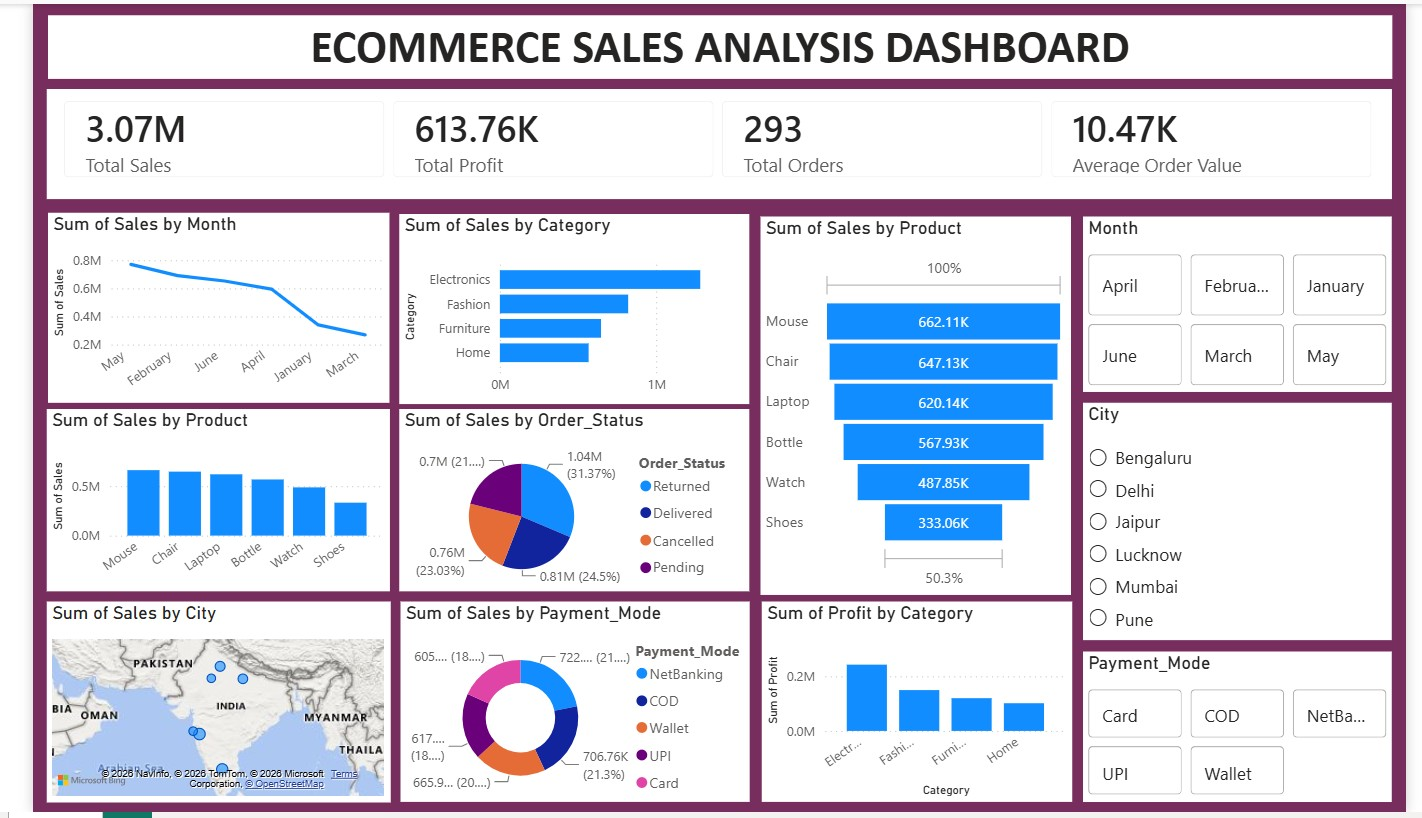

The page's visual inventory and layout, read from the dashboard file:
{"tool":"powerbi","page":{"name":"Page 1","canvas":[1277,752],"ordinal":0},"visuals":[{"type":"cardVisual","fields":{"Data":["Dax Measures.Total Sales","Dax Measures.Total Profit","Dax Measures.Total Orders","Dax Measures.Average Order Value"]},"box":[12.3,79.4,1251.3,102.7],"z":0},{"type":"textbox","box":[13.7,11,1250.1,59],"z":1000},{"type":"lineChart","fields":{"Category":["ecommerce ecom.Month"],"Y":["Sum(ecommerce ecom.Sales)"]},"box":[13.7,194.4,317.6,176.6],"z":2000},{"type":"barChart","fields":{"Category":["ecommerce ecom.Category"],"Y":["Sum(ecommerce ecom.Sales)"]},"box":[340.9,195.8,325.8,176.6],"z":3000},{"type":"columnChart","fields":{"Y":["Sum(ecommerce ecom.Sales)"],"Category":["ecommerce ecom.Product"]},"box":[12.3,376.5,319,169.8],"z":4000},{"type":"map","fields":{"Category":["ecommerce ecom.City"],"Size":["Sum(ecommerce ecom.Sales)"]},"box":[12.3,555.8,319,186.2],"z":5000},{"type":"donutChart","fields":{"Category":["ecommerce ecom.Payment_Mode"],"Y":["Sum(ecommerce ecom.Sales)"]},"box":[342.3,555.8,324.5,186.2],"z":6000},{"type":"pieChart","fields":{"Category":["ecommerce ecom.Order_Status"],"Y":["Sum(ecommerce ecom.Sales)"]},"box":[340.9,376.5,325.8,169.8],"z":7000},{"type":"funnel","fields":{"Category":["ecommerce ecom.Product"],"Y":["Sum(ecommerce ecom.Sales)"]},"box":[676.3,197.1,288.9,351.8],"z":8000},{"type":"columnChart","fields":{"Category":["ecommerce ecom.Category"],"Y":["Sum(ecommerce ecom.Profit)"]},"box":[677.7,555.8,288.9,186.2],"z":9000},{"type":"advancedSlicerVisual","fields":{"Values":["ecommerce ecom.Month"]},"box":[976.1,197.1,287.5,162.9],"z":10000},{"type":"listSlicer","fields":{"Values":["ecommerce ecom.City"]},"box":[976.1,371,287.5,220.4],"z":11000},{"type":"advancedSlicerVisual","fields":{"Values":["ecommerce ecom.Payment_Mode"]},"box":[976.1,602.4,287.5,139.6],"z":12000}]}

Visuals, with their boxes in screenshot pixels (x1, y1, x2, y2), scaled from the page's 1277x752 canvas onto the 1422x818 screenshot:
cardVisual - Dax Measures.Total Sales x Dax Measures.Total Profit: rect(14, 86, 1407, 198)
textbox: rect(15, 12, 1407, 76)
lineChart - ecommerce ecom.Month x Sum(ecommerce ecom.Sales): rect(15, 211, 369, 404)
barChart - ecommerce ecom.Category x Sum(ecommerce ecom.Sales): rect(380, 213, 742, 405)
columnChart - Sum(ecommerce ecom.Sales) x ecommerce ecom.Product: rect(14, 410, 369, 594)
map - ecommerce ecom.City x Sum(ecommerce ecom.Sales): rect(14, 605, 369, 807)
donutChart - ecommerce ecom.Payment_Mode x Sum(ecommerce ecom.Sales): rect(381, 605, 743, 807)
pieChart - ecommerce ecom.Order_Status x Sum(ecommerce ecom.Sales): rect(380, 410, 742, 594)
funnel - ecommerce ecom.Product x Sum(ecommerce ecom.Sales): rect(753, 214, 1075, 597)
columnChart - ecommerce ecom.Category x Sum(ecommerce ecom.Profit): rect(755, 605, 1076, 807)
advancedSlicerVisual - ecommerce ecom.Month: rect(1087, 214, 1407, 392)
listSlicer - ecommerce ecom.City: rect(1087, 404, 1407, 643)
advancedSlicerVisual - ecommerce ecom.Payment_Mode: rect(1087, 655, 1407, 807)
